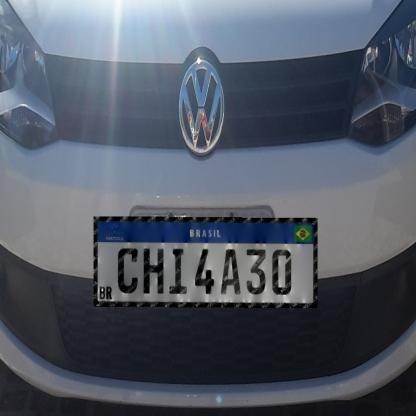PlacaM: (94, 217, 318, 308)
